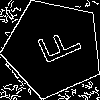F: (28, 23, 84, 71)
